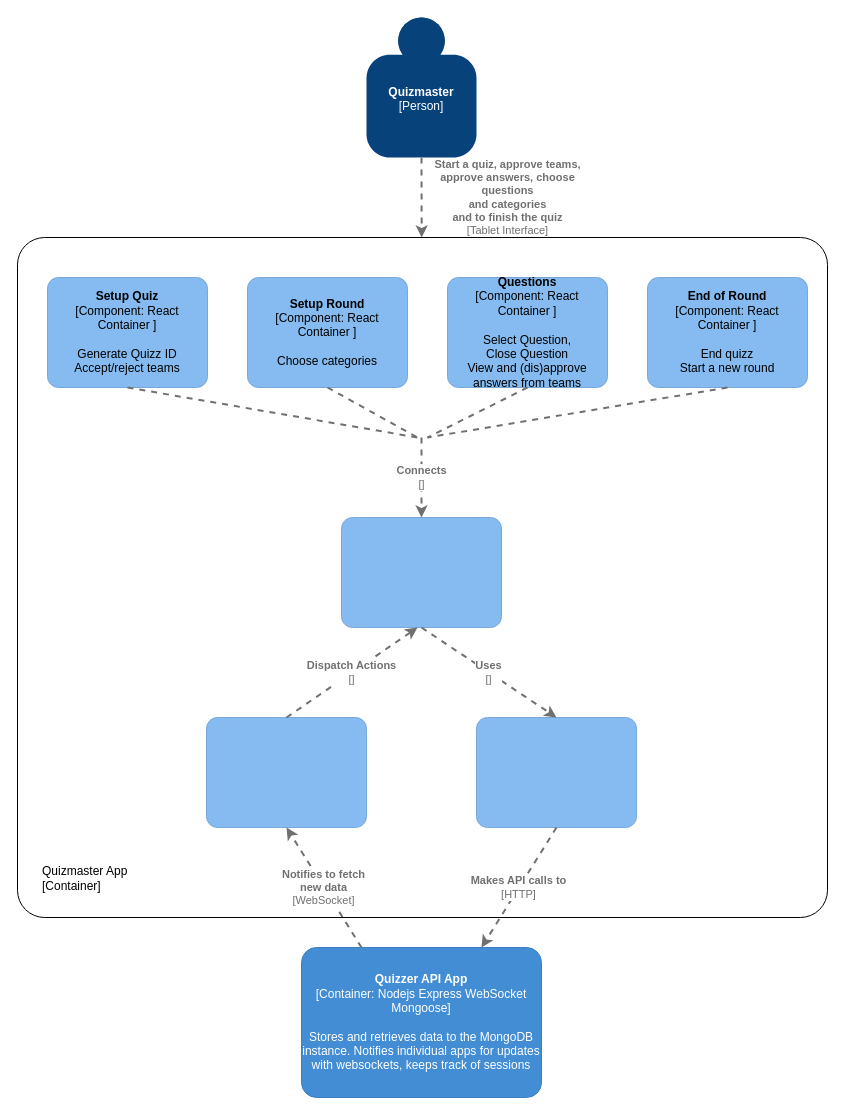
This 845x1115 diagram has some shape labels left out. The box of each missing label's shape, as (x1, y1, x2, y2) in pixels:
QuizmasterAppStore [Component: Reducers and Action Creators] Description: (340, 516, 502, 628)
REST helpers [Component: ES6 module]: (476, 716, 636, 828)
Websocket singleton [Component: ES6 module]: (206, 716, 366, 828)
